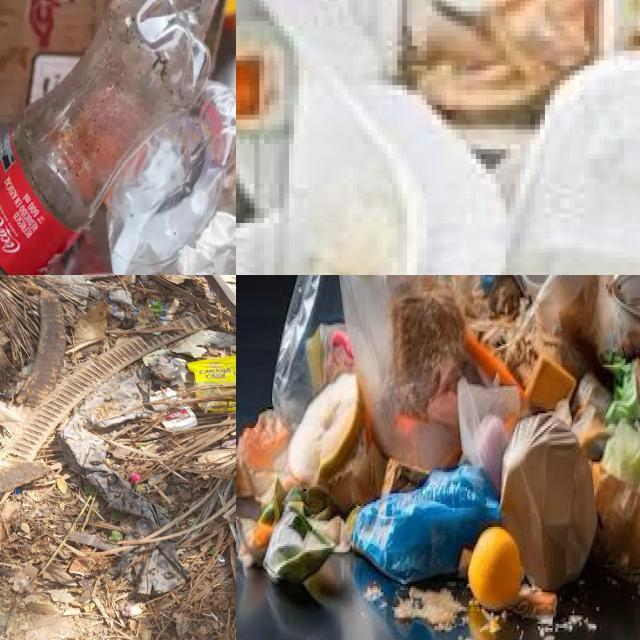Disposable: (236, 0, 506, 275), (343, 0, 640, 117), (501, 52, 640, 275)
Garbage: (236, 275, 640, 616), (236, 0, 640, 275), (0, 275, 236, 640)
Plastic_Bag: (273, 275, 414, 449), (351, 463, 500, 583), (457, 378, 521, 492)
Plastic_bottle: (0, 0, 211, 275), (106, 81, 236, 275)
Plastic_wraper: (188, 355, 236, 398), (144, 352, 186, 385), (197, 399, 236, 414), (209, 548, 226, 563)
Tetrapack: (161, 405, 197, 432), (150, 388, 178, 411)
